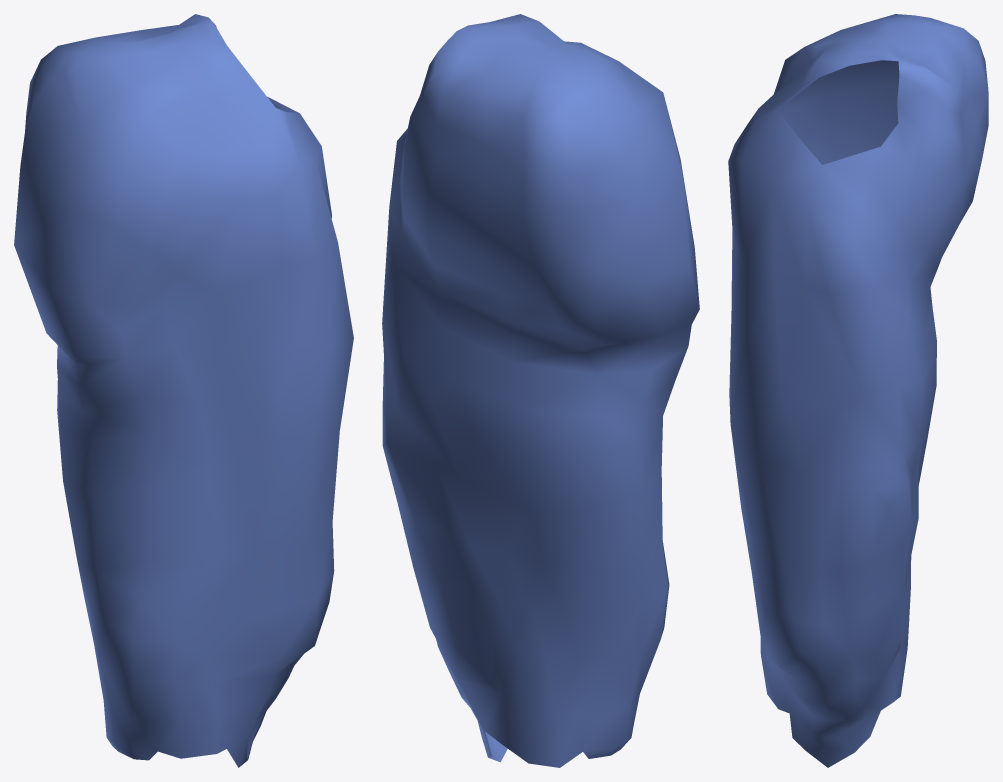
File: LoLeg.R.dae
3 views of the same model, side by side, from view 1: azimuth 30°, elevation 25°; view 2: azimuth 150°, elevation 25°; view 3: azimuth 270°, elevation 25° (orthographic). The views are drawn at different scales.
Visible parts, largest first — view 1: LoLeg_R; view 2: LoLeg_R; view 3: LoLeg_R.
Part boxes in pixels (x1=…): LoLeg_R: x1=14, y1=14, x2=353, y2=767; LoLeg_R: x1=382, y1=14, x2=699, y2=767; LoLeg_R: x1=728, y1=14, x2=988, y2=767.
Bounding box in the file's own units: 0.2551 × 0.2104 × 0.6344.
